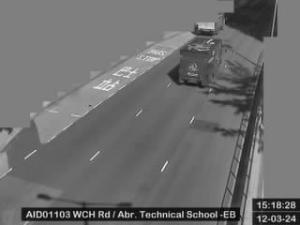truck: (180, 39, 220, 85), (194, 12, 224, 34)
